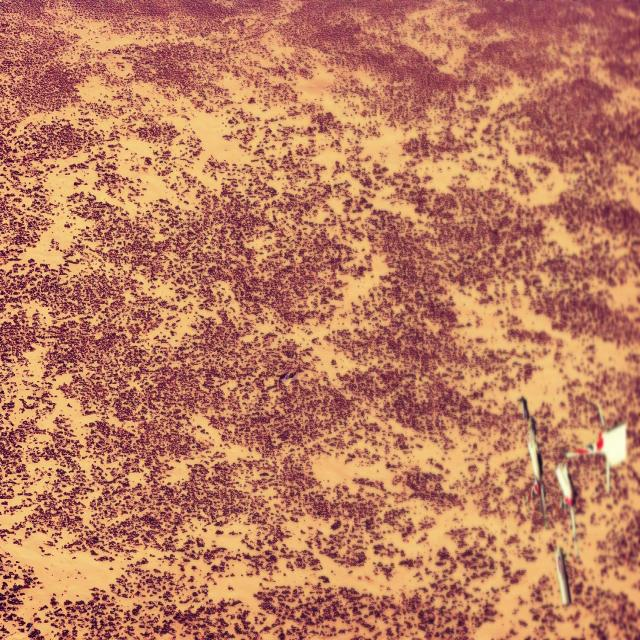airplane: (554, 400, 626, 606), (520, 395, 548, 528)
